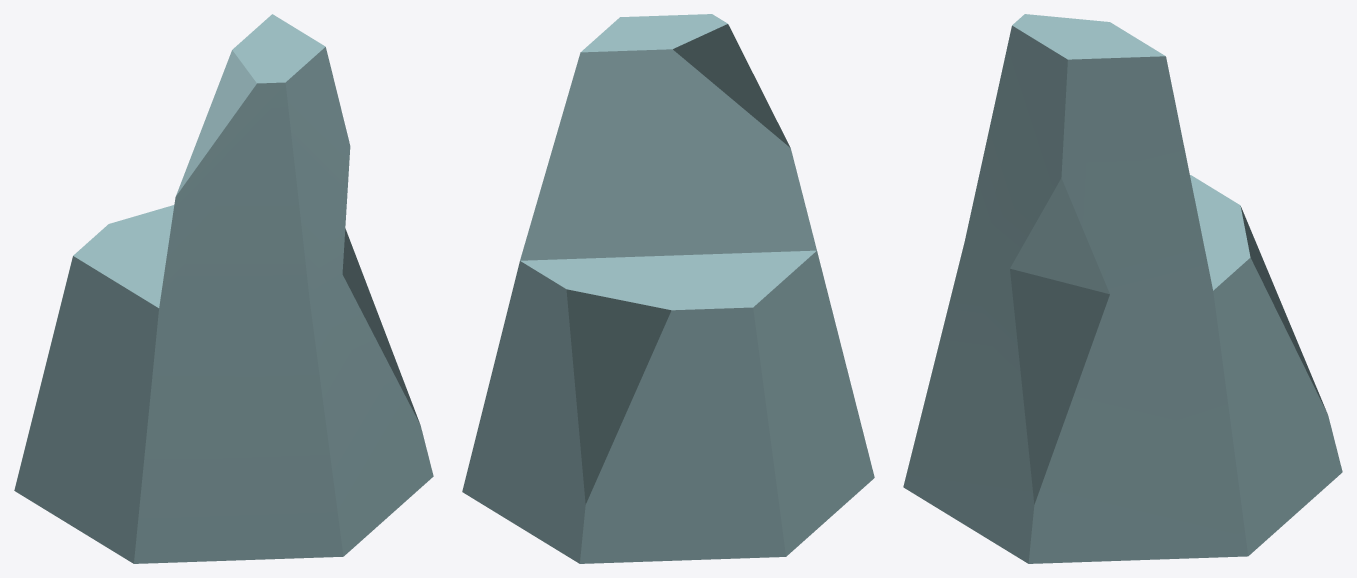
Rendered from stone_tall10.obj.
The picture shows the model from 3 angles, left to right: view 1: azimuth 30°, elevation 25°; view 2: azimuth 150°, elevation 25°; view 3: azimuth 270°, elevation 25°; orthographic projection. The views are drawn at different scales.
Visible parts, largest first — view 1: stone_tall10; view 2: stone_tall10; view 3: stone_tall10.
Boxes of the visible parts, x1,y1,x2,y2 form: stone_tall10: (14, 14, 433, 563); stone_tall10: (462, 14, 874, 563); stone_tall10: (903, 14, 1342, 563).
Bounding box in the file's own units: 4.88 × 6.2 × 5.38.
